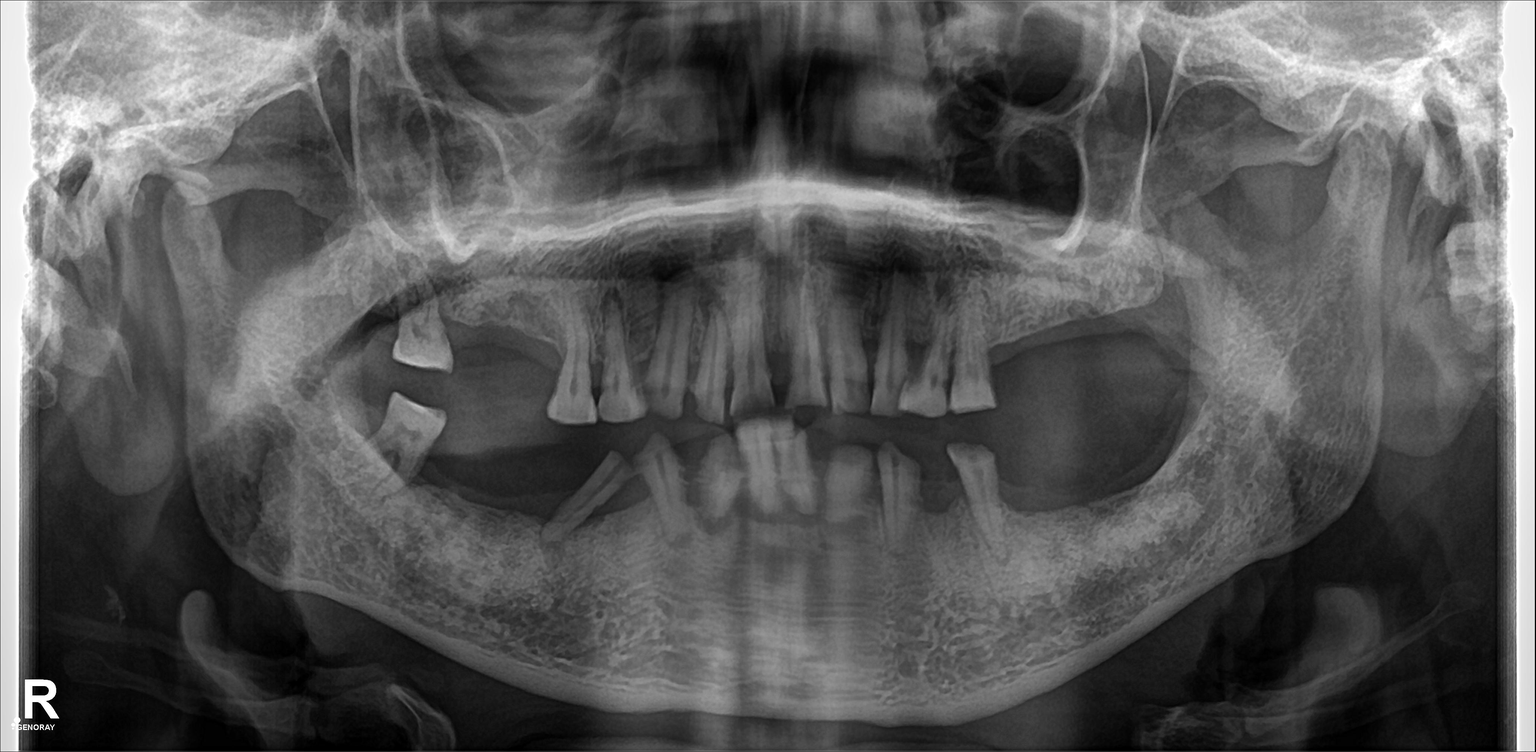Missing Tooth: (1058, 437, 1117, 520), (1052, 285, 1099, 389), (998, 439, 1058, 518), (503, 300, 556, 387), (451, 436, 495, 538), (1004, 309, 1055, 393), (507, 441, 550, 535), (453, 300, 496, 392), (1170, 391, 1210, 478), (1158, 281, 1196, 372), (1119, 419, 1156, 511), (1112, 281, 1149, 372), (352, 303, 399, 372), (331, 396, 372, 465), (927, 450, 956, 523)
